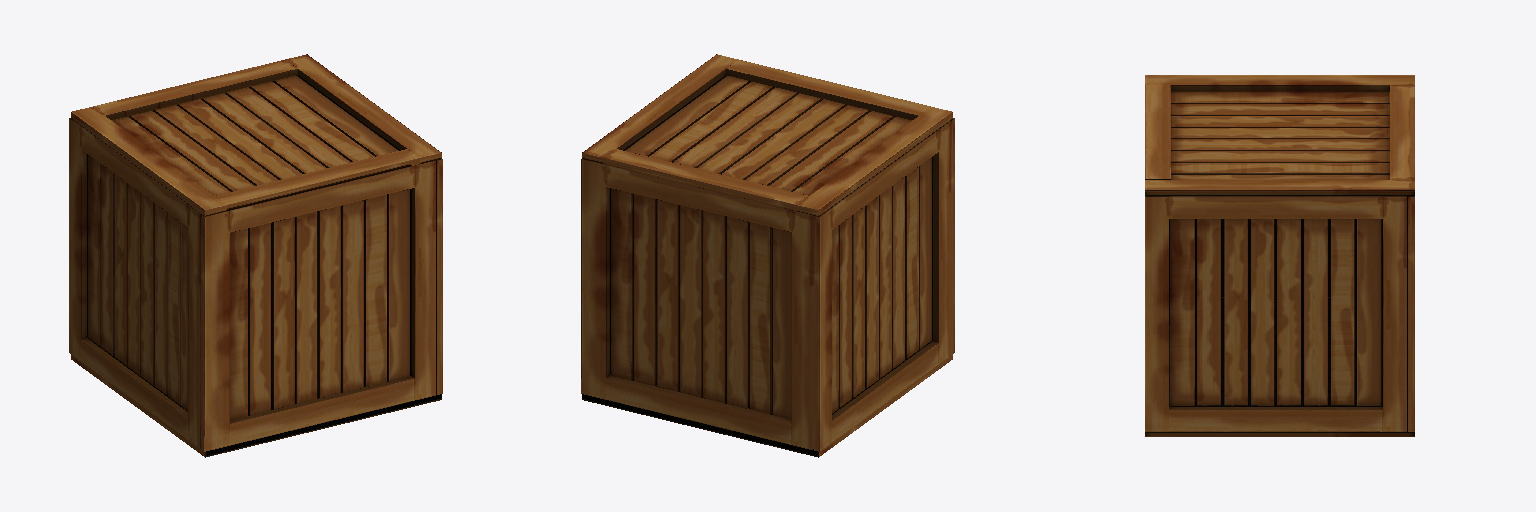
3 views of the same model, side by side, from view 1: azimuth 30°, elevation 25°; view 2: azimuth 150°, elevation 25°; view 3: azimuth 270°, elevation 25° (orthographic).
Parts seen in each view (by area): view 1: Cube.001_Cube.012; view 2: Cube.001_Cube.012; view 3: Cube.001_Cube.012.
Boxes of the visible parts, box(x1,y1,x2,y2) form: Cube.001_Cube.012: box(69, 54, 442, 457); Cube.001_Cube.012: box(581, 54, 954, 457); Cube.001_Cube.012: box(1145, 75, 1414, 436).
Size of the model in its own units: 0.7 by 0.6928 by 0.6872.
Materials: 1 (1 with a texture image).